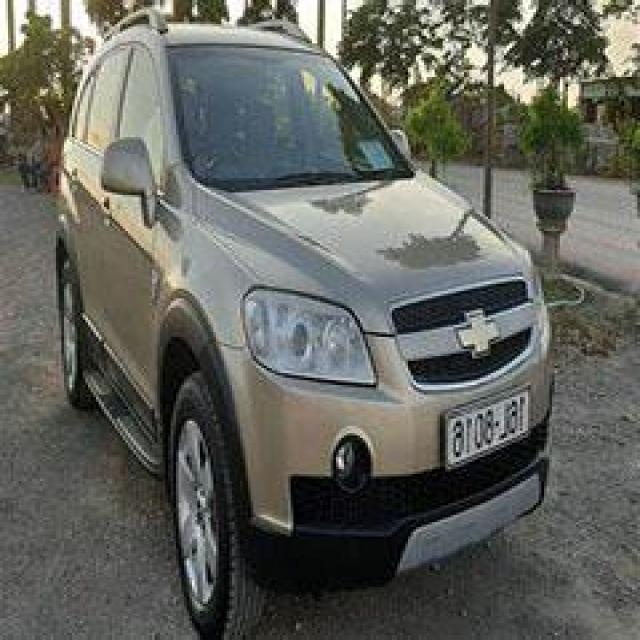car: (9, 6, 607, 632)
